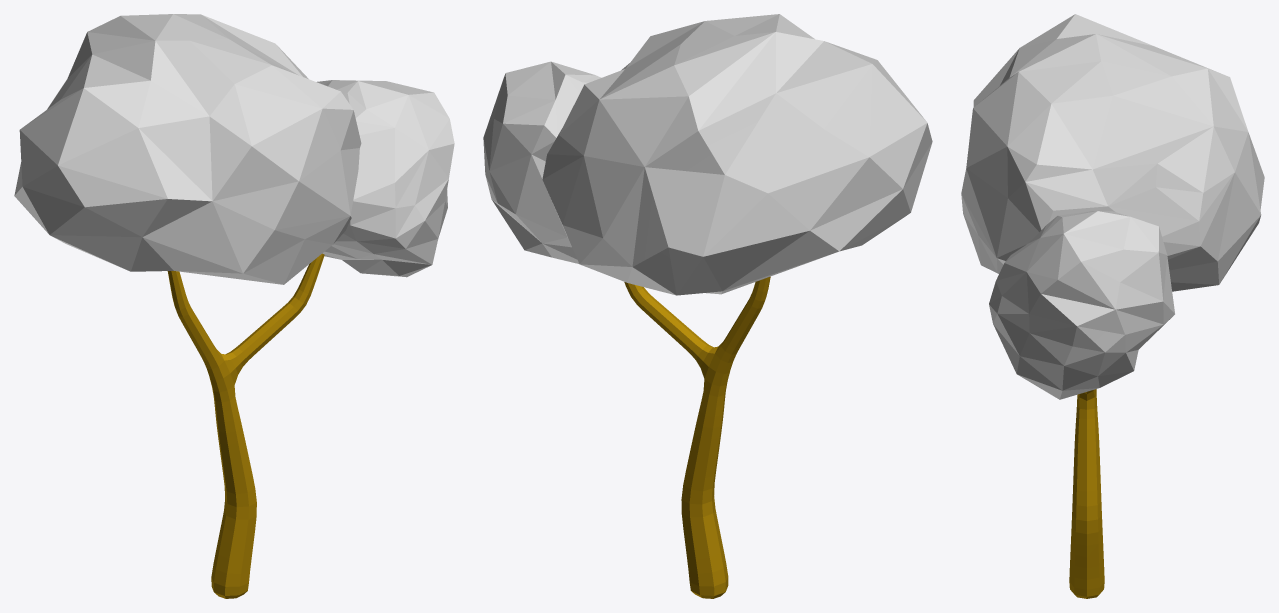
File: tree6.glb
The picture shows the model from 3 angles, left to right: view 1: azimuth 30°, elevation 25°; view 2: azimuth 150°, elevation 25°; view 3: azimuth 270°, elevation 25°; orthographic projection. The views are drawn at different scales.
Parts seen in each view (by area): view 1: leaf, trunk; view 2: leaf, trunk; view 3: leaf, trunk.
Part boxes in pixels (bbox=[...]): leaf: bbox=[14, 14, 454, 284]; trunk: bbox=[167, 253, 324, 598]; leaf: bbox=[483, 14, 932, 295]; trunk: bbox=[624, 276, 770, 598]; leaf: bbox=[961, 14, 1264, 399]; trunk: bbox=[1069, 389, 1104, 598].
Bounding box in the file's own units: 2.66 × 3.49 × 1.81.
